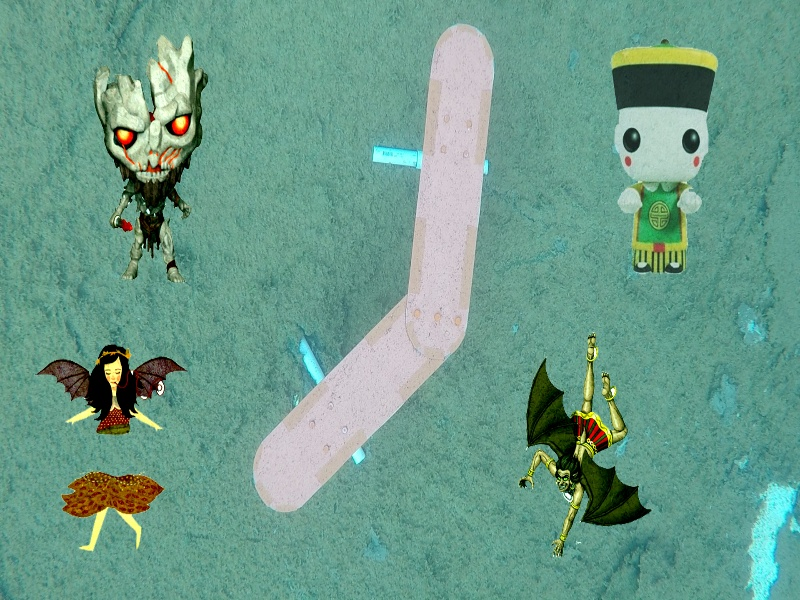Aswang: (32, 338, 186, 554)
Draugr: (86, 31, 220, 290)
Jiangshi: (608, 36, 721, 280)
Vetalas: (514, 329, 654, 563)
